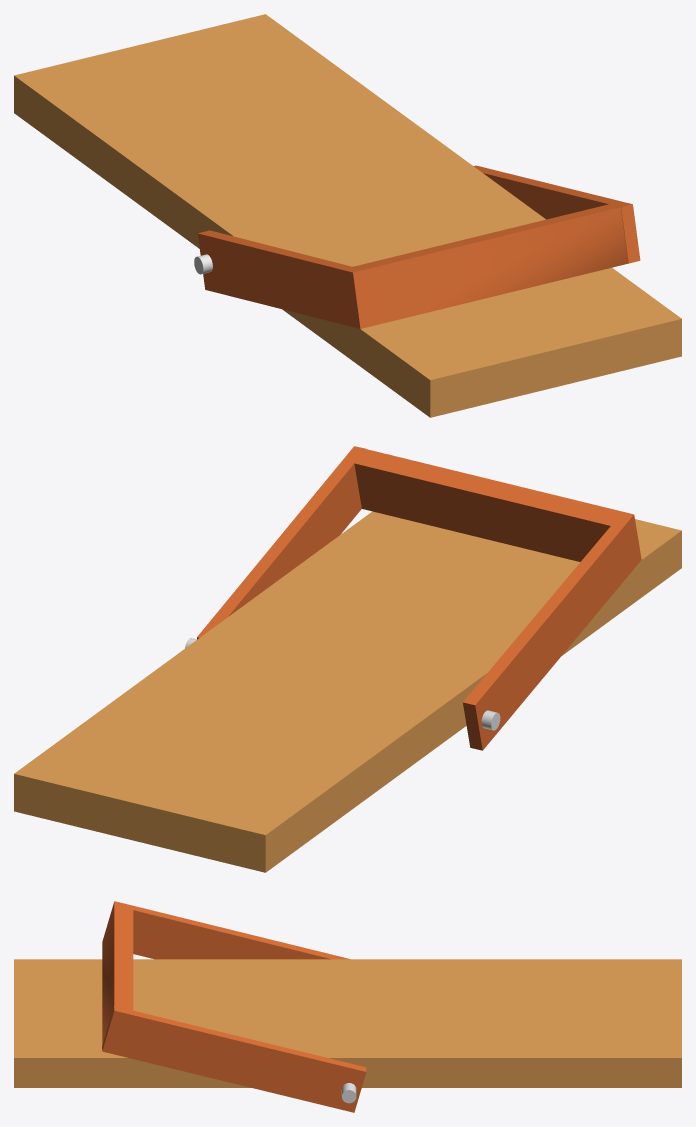
Rendered from woodRotate.fbx.
3 views of the same model, one above another, from view 1: azimuth 30°, elevation 25°; view 2: azimuth 150°, elevation 25°; view 3: azimuth 270°, elevation 25° (orthographic). The views are drawn at different scales.
Parts seen in each view (by area): view 1: woodRotate2, woodRotate1; view 2: woodRotate2, woodRotate1; view 3: woodRotate2, woodRotate1.
Boxes of the visible parts, x1,y1,x2,y2 form: woodRotate2: (14,14,681,417); woodRotate1: (197,165,640,328); woodRotate2: (14,511,681,872); woodRotate1: (197,446,641,750); woodRotate2: (14,959,681,1087); woodRotate1: (102,901,366,1112).
Bounding box in the file's own units: 426 × 169 × 1003.
